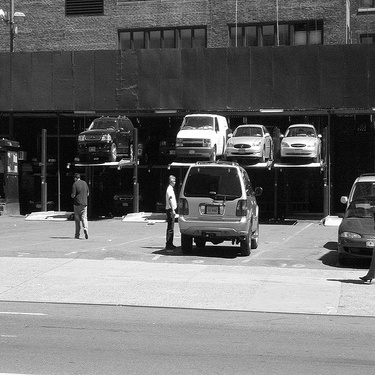car: (176, 156, 263, 258), (75, 113, 135, 165), (172, 112, 229, 156), (220, 121, 277, 165), (337, 196, 372, 265), (281, 118, 325, 163), (339, 172, 374, 217), (1, 134, 33, 177), (106, 183, 149, 215), (27, 147, 64, 173), (29, 181, 57, 214), (158, 123, 180, 159), (260, 124, 283, 158), (157, 182, 177, 214)
